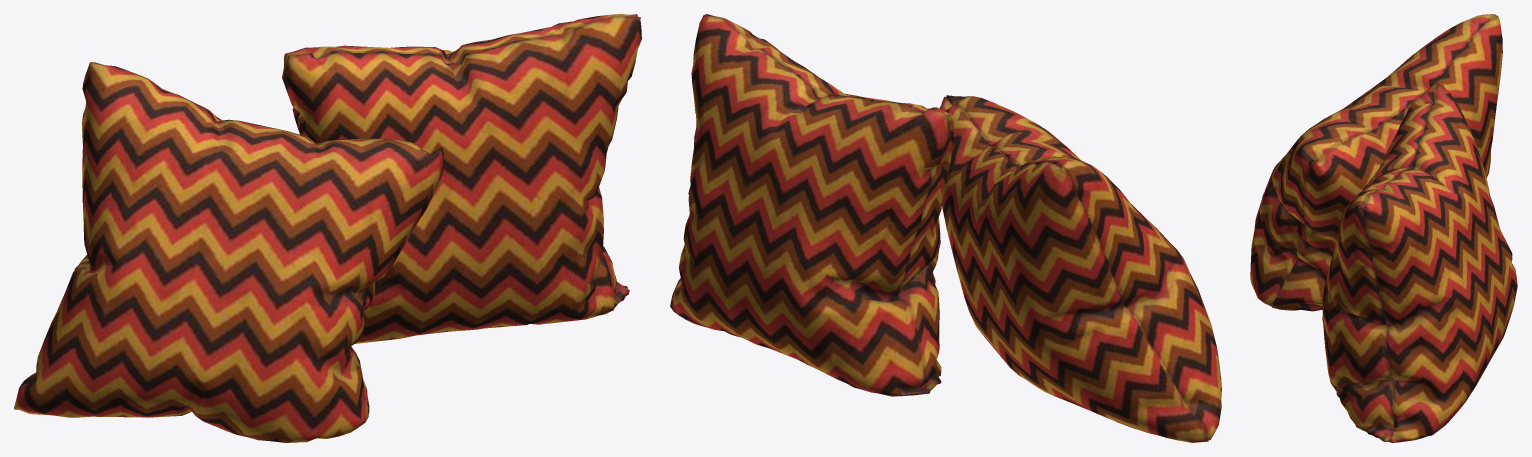
File: throw_pillows_01.glb
3 renders of one model, left to right at view 1: azimuth 30°, elevation 25°; view 2: azimuth 150°, elevation 25°; view 3: azimuth 270°, elevation 25°, orthographic. The views are drawn at different scales.
Visible parts, largest first — view 1: throw_pillows_01_pillow01, throw_pillows_01_pillow02; view 2: throw_pillows_01_pillow02, throw_pillows_01_pillow01; view 3: throw_pillows_01_pillow02, throw_pillows_01_pillow01.
Part boxes in pixels (x1=…): throw_pillows_01_pillow01: x1=14, y1=62, x2=443, y2=442; throw_pillows_01_pillow02: x1=282, y1=14, x2=641, y2=343; throw_pillows_01_pillow02: x1=670, y1=14, x2=953, y2=396; throw_pillows_01_pillow01: x1=939, y1=95, x2=1221, y2=442; throw_pillows_01_pillow02: x1=1322, y1=84, x2=1517, y2=442; throw_pillows_01_pillow01: x1=1250, y1=14, x2=1502, y2=311.
Bounding box in the file's own units: 0.9401 × 0.4502 × 0.4518.
1 material, 1 textured.
